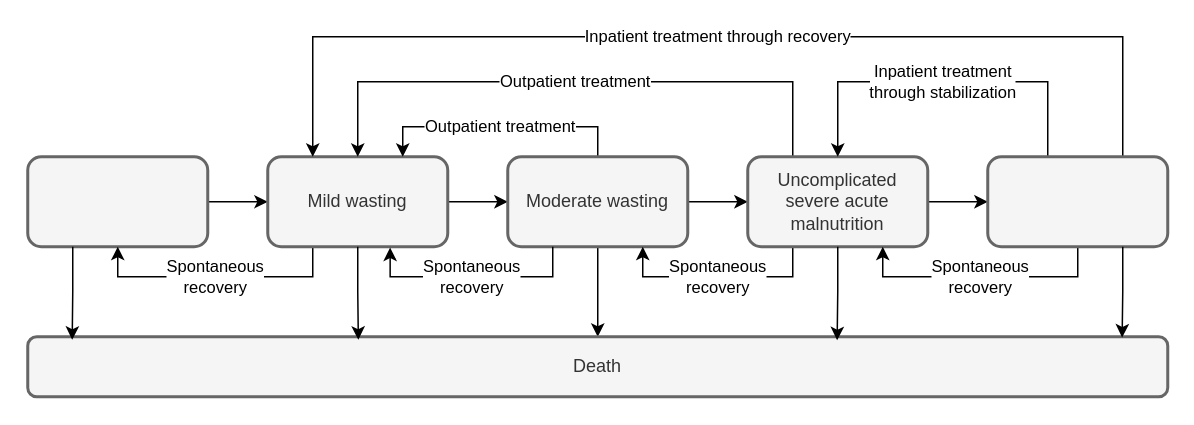
Some shapes in this 1194 by 425 pixel diagram are drawn without their labels. Each missing label, with the centre of its shape:
Complicated severe acute malnutrition: point (1077, 201)
No wasting: point (117, 201)
